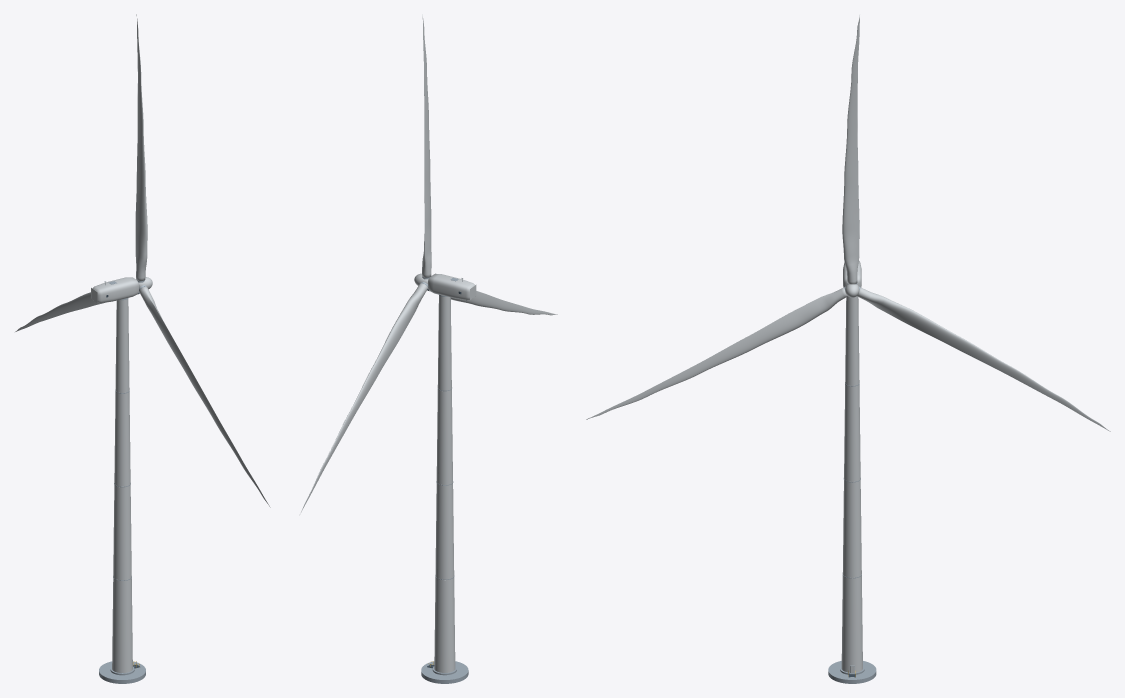
The picture shows the model from 3 angles, left to right: view 1: azimuth 30°, elevation 25°; view 2: azimuth 150°, elevation 25°; view 3: azimuth 270°, elevation 25°; orthographic projection. The views are drawn at different scales.
Visible parts, largest first — view 1: Blade_01_Airfoil, Tower_Shell_01, Tower_Shell_02, Tower_Shell_03, Blade_02_Airfoil, Tower_Shell_04, Nacelle_Cover_TurbineWhite, Blade_03_Airfoil, Foundation_Concrete; view 2: Blade_03_Airfoil, Tower_Shell_01, Tower_Shell_02, Blade_01_Airfoil, Tower_Shell_03, Tower_Shell_04, Nacelle_Cover_TurbineWhite, Blade_02_Airfoil, Foundation_Concrete; view 3: Blade_02_Airfoil, Blade_01_Airfoil, Blade_03_Airfoil, Tower_Shell_01, Tower_Shell_02, Tower_Shell_03, Tower_Shell_04.
Part boxes in pixels (x1,y1,x2,y2): Blade_01_Airfoil: [135, 14, 147, 280]; Tower_Shell_01: [112, 578, 132, 672]; Tower_Shell_02: [113, 485, 131, 580]; Tower_Shell_03: [114, 391, 130, 486]; Blade_02_Airfoil: [139, 286, 270, 507]; Tower_Shell_04: [115, 299, 129, 392]; Nacelle_Cover_TurbineWhite: [91, 277, 139, 303]; Blade_03_Airfoil: [14, 292, 106, 332]; Foundation_Concrete: [99, 661, 145, 683]; Blade_03_Airfoil: [300, 283, 427, 513]; Tower_Shell_01: [434, 577, 455, 672]; Tower_Shell_02: [435, 483, 454, 579]; Blade_01_Airfoil: [422, 14, 431, 277]; Tower_Shell_03: [436, 389, 452, 484]; Tower_Shell_04: [437, 295, 451, 390]; Nacelle_Cover_TurbineWhite: [428, 273, 476, 299]; Blade_02_Airfoil: [450, 291, 557, 315]; Foundation_Concrete: [421, 661, 468, 683]; Blade_02_Airfoil: [586, 287, 847, 419]; Blade_01_Airfoil: [842, 15, 859, 284]; Blade_03_Airfoil: [857, 287, 1110, 431]; Tower_Shell_01: [841, 575, 862, 672]; Tower_Shell_02: [842, 480, 861, 577]; Tower_Shell_03: [844, 384, 860, 481]; Tower_Shell_04: [845, 296, 859, 385].
Bounding box in the file's own units: 20.42 × 221 × 157.
